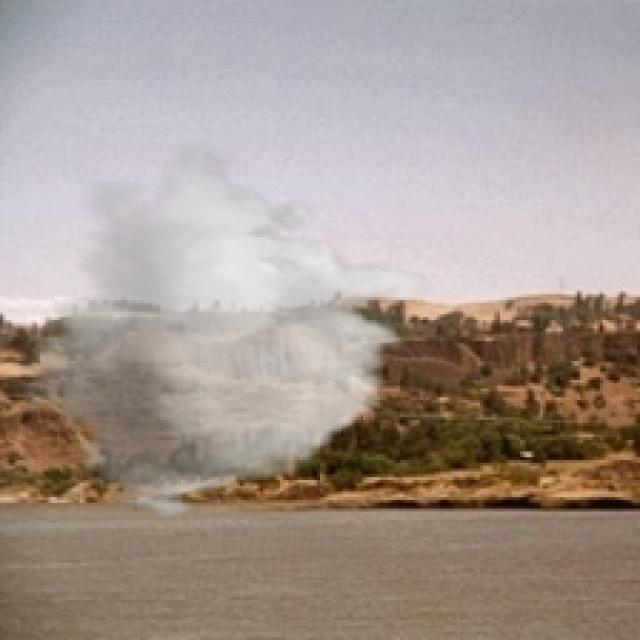smoke: (9, 143, 434, 523)
